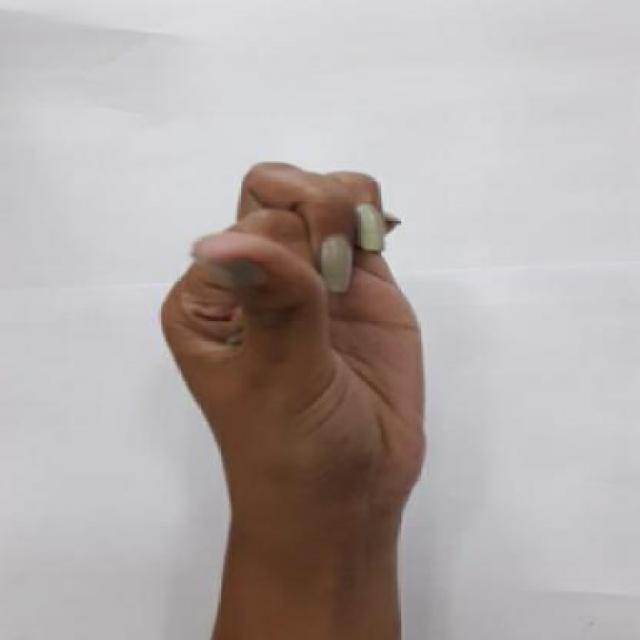without_gloves: (149, 142, 457, 562)
